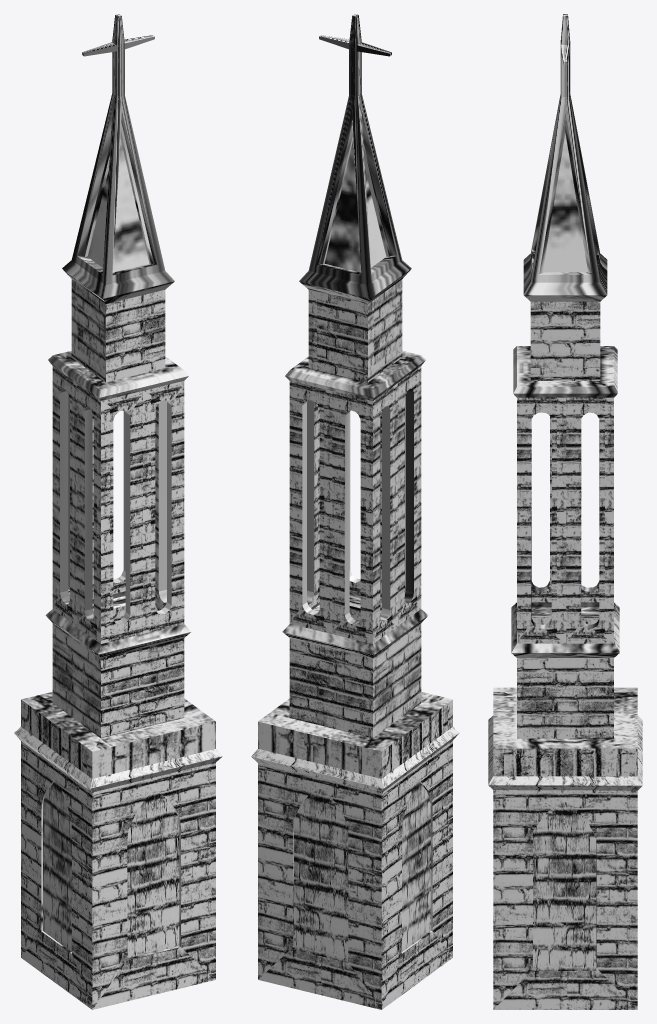
Rendered from Tower.glb.
The picture shows the model from 3 angles, left to right: view 1: azimuth 30°, elevation 25°; view 2: azimuth 150°, elevation 25°; view 3: azimuth 270°, elevation 25°; orthographic projection.
Parts seen in each view (by area): view 1: Cube.008; view 2: Cube.008; view 3: Cube.008.
Part boxes in pixels (x1,y1,x2,y2): Cube.008: (14, 14, 222, 1009); Cube.008: (251, 14, 459, 1009); Cube.008: (488, 14, 642, 1009).
Bounding box in the file's own units: 0.8383 × 5.77 × 0.8383.
Materials: 1 (1 with a texture image).
